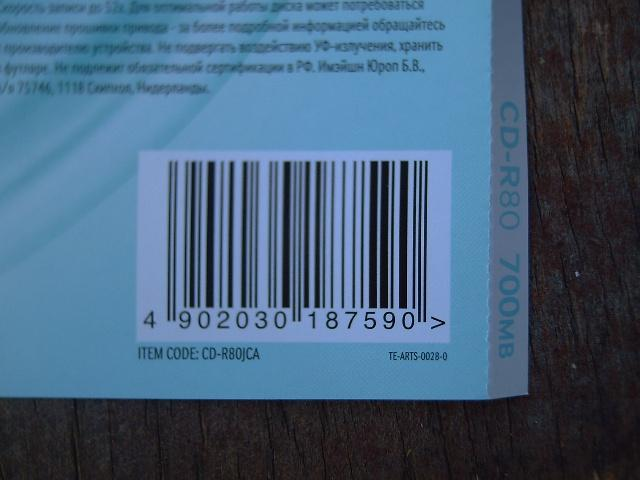Barcode: (138, 149, 451, 344)
